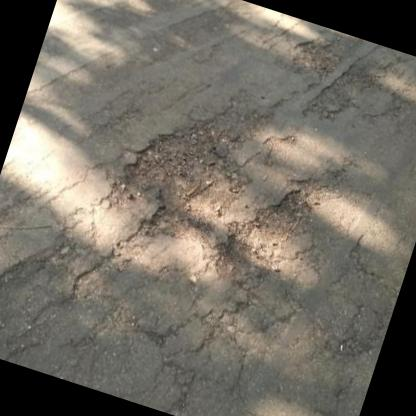pothole: (94, 104, 256, 259), (206, 168, 318, 299), (286, 30, 345, 86)
